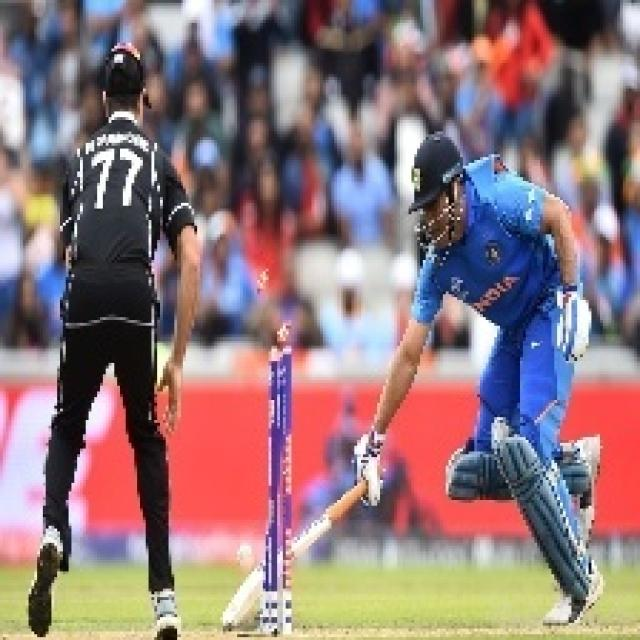batsman: (226, 111, 614, 640)
wicket: (250, 306, 304, 640)
